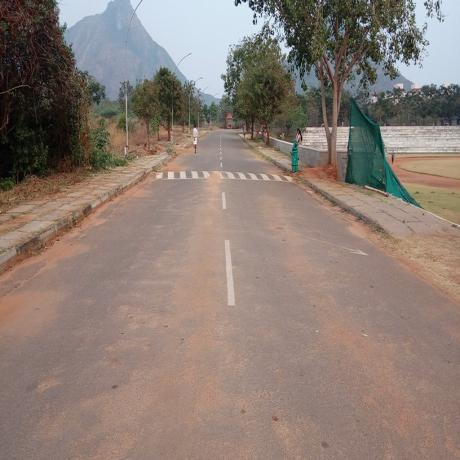Speed Bump: (150, 166, 292, 183)
